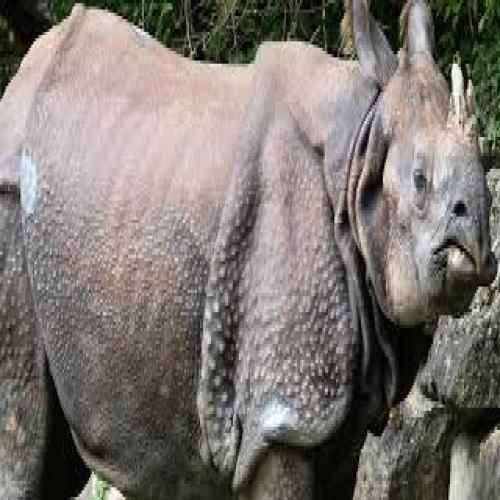rhino-endangered: (0, 0, 496, 500)
